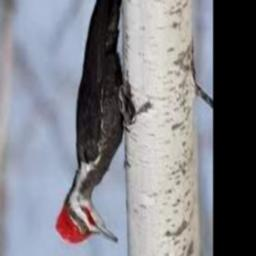Woodpecker: (56, 0, 132, 243)
